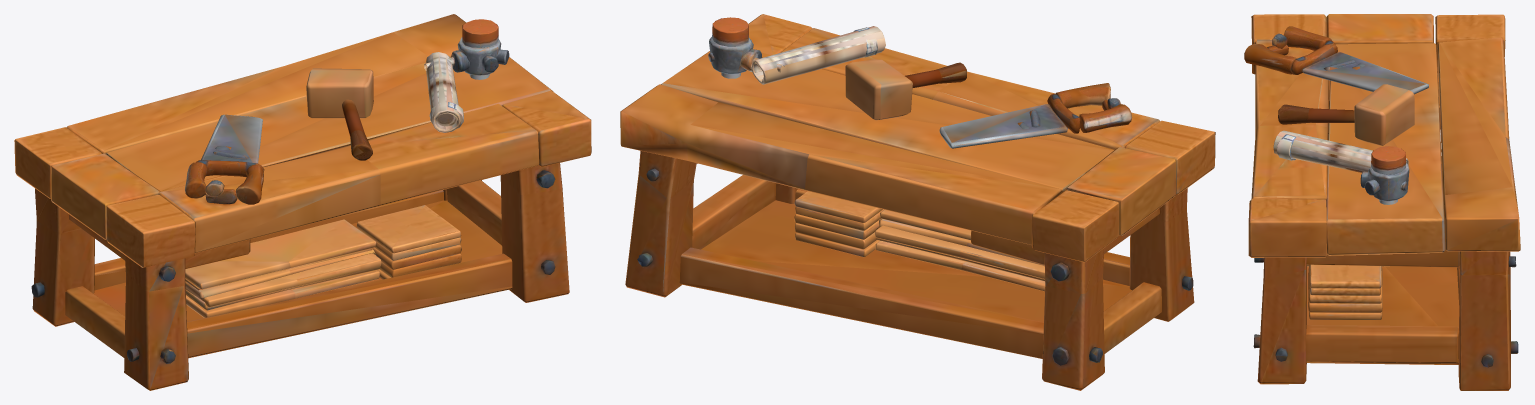
Rendered from workbench.glb.
3 views of the same model, side by side, from view 1: azimuth 30°, elevation 25°; view 2: azimuth 150°, elevation 25°; view 3: azimuth 270°, elevation 25° (orthographic). The views are drawn at different scales.
Bounding box in the file's own units: 1 × 0.4819 × 0.5463.
1 material, 1 textured.
